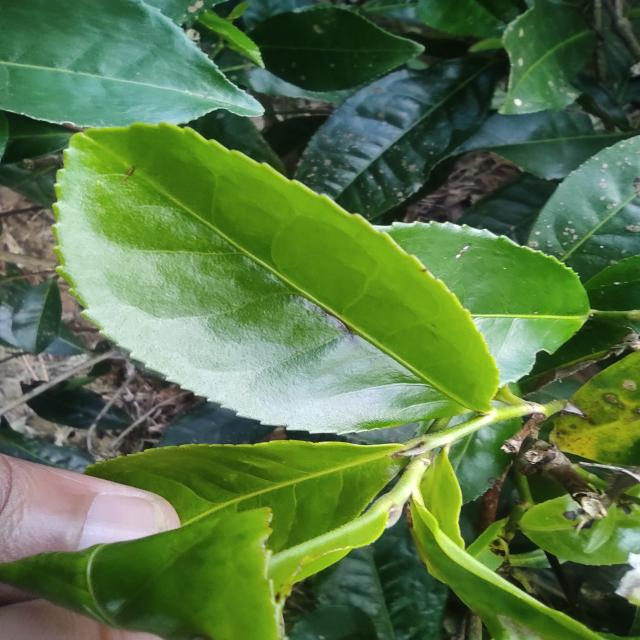Category C(4-7 days): (22, 76, 531, 468)
